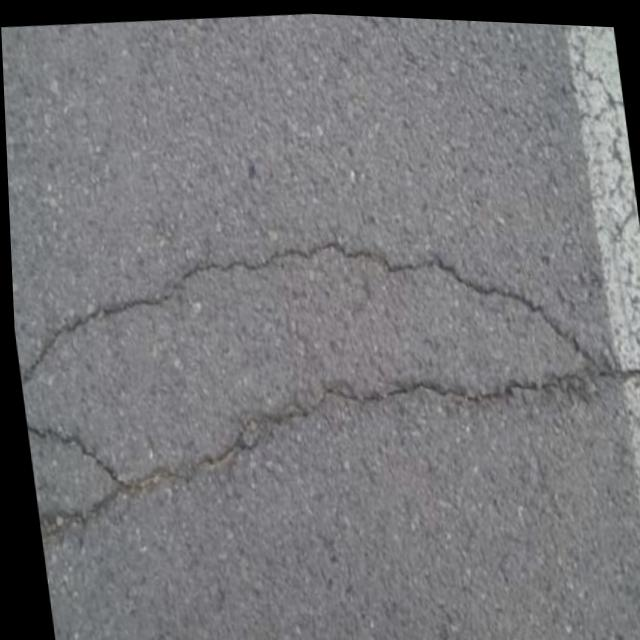Crack: (7, 196, 640, 570)
